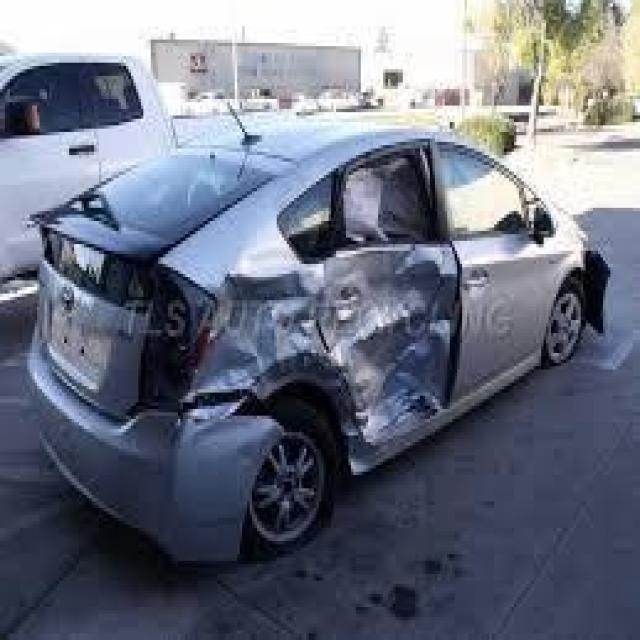damaged: (190, 254, 460, 455)
